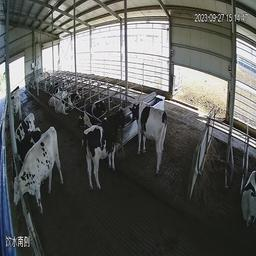cow: (16, 120, 70, 210), (82, 110, 127, 196), (130, 97, 174, 176), (15, 125, 44, 163), (14, 108, 37, 152), (241, 163, 256, 229), (77, 99, 109, 128), (54, 91, 81, 117), (7, 94, 23, 128), (35, 68, 52, 98), (48, 89, 69, 108)
